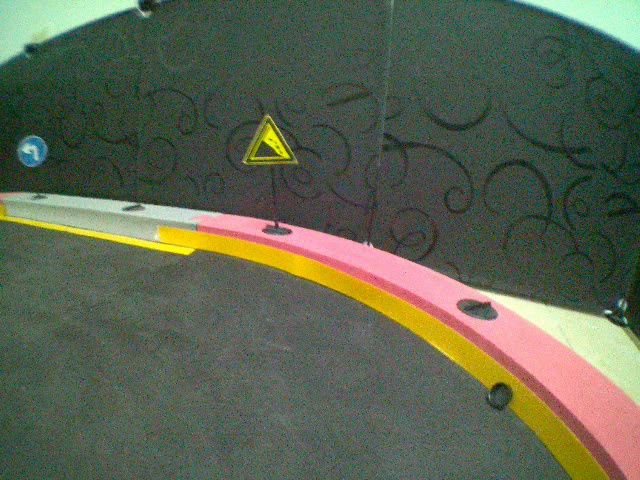fast: (240, 112, 301, 167)
turn: (15, 136, 49, 168)
